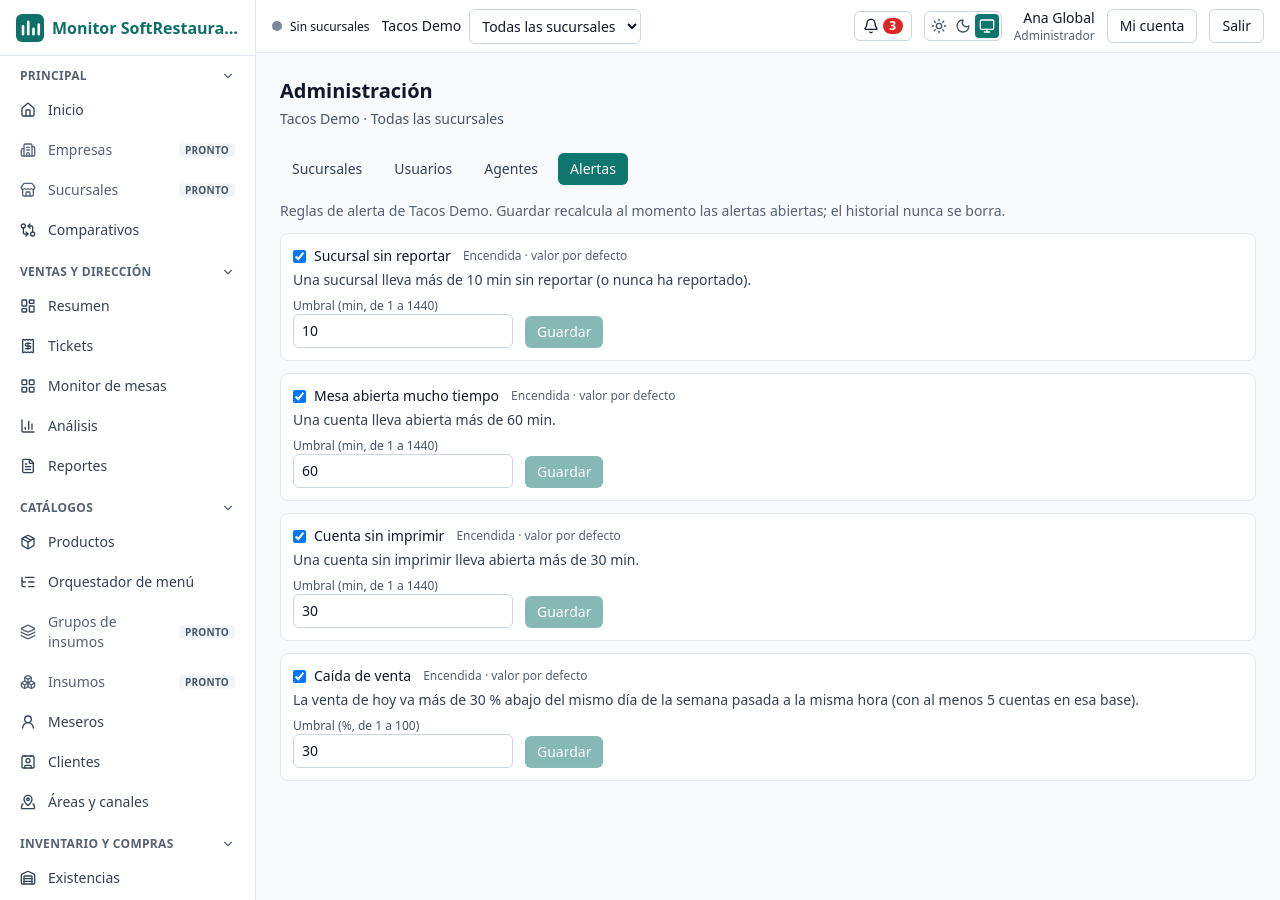
Scenario: Administración › Alertas (reglas) › guardar manda la regla y refresca las abiertas (la campana se actualiza ya)
This screenshot has width=1280, height=900.
Expected: the text with test id "campana-conteo" reads "3", [889, 17, 896, 34]
Replace the text in the field labelled "Umbral (min, de 1 a 1440)" below "Mesa abierta mucho tiempo" with "200": [403, 471] box [293, 454, 513, 488]
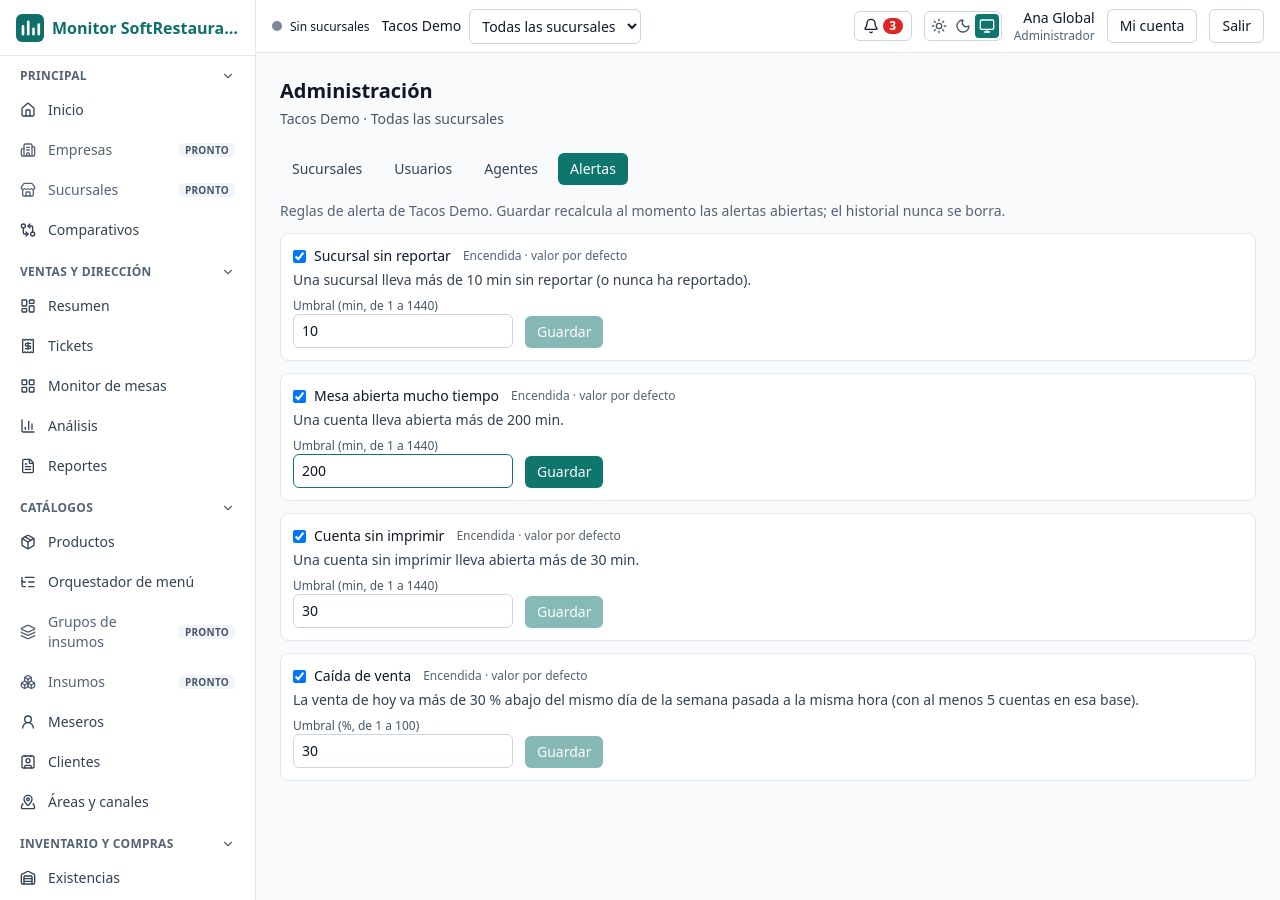
Click the button "Guardar" below "Mesa abierta mucho tiempo": [564, 472] box [525, 456, 604, 488]
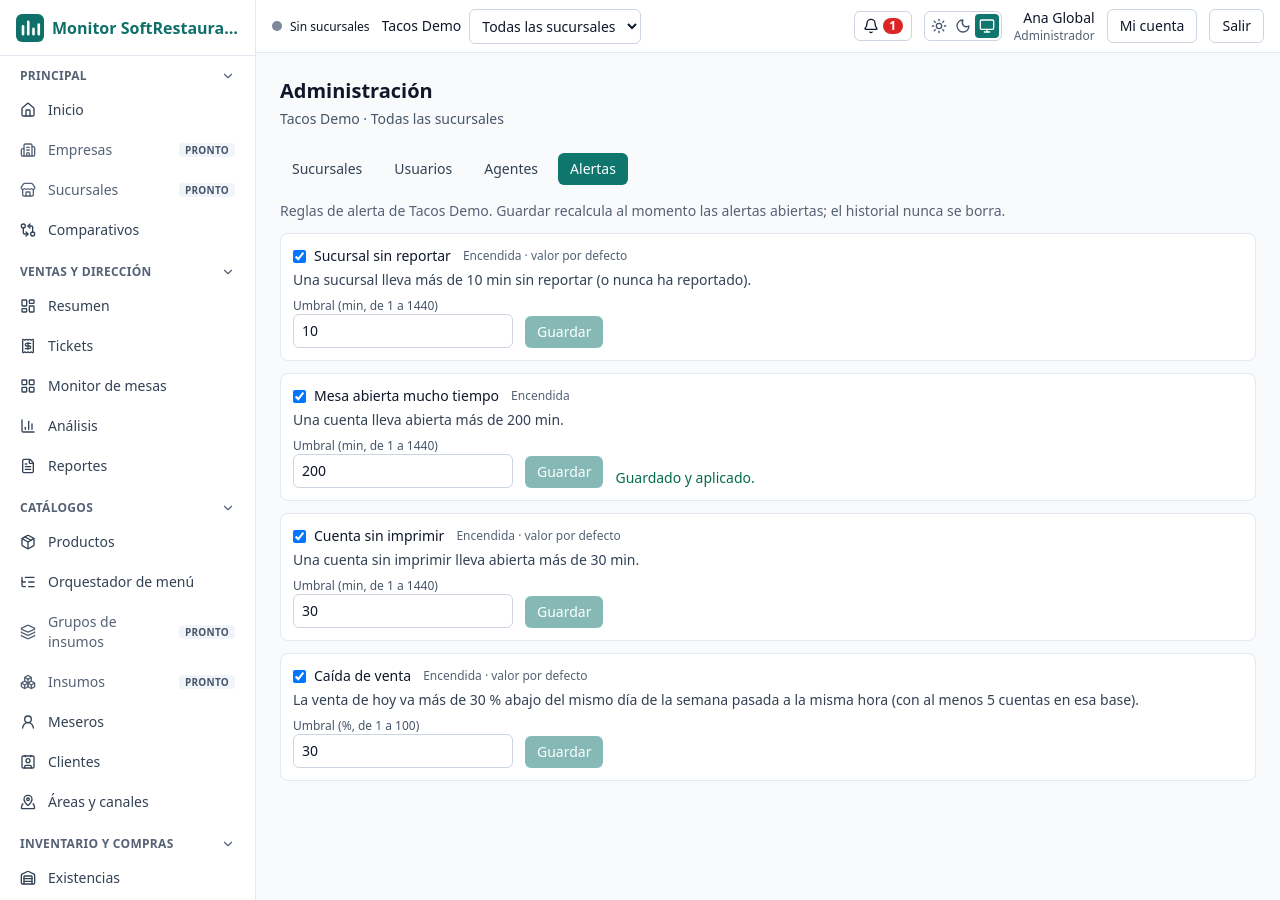
Expected: the message reads "Guardado y aplicado.", [616, 468, 755, 487]
Expected: the text with test id "campana-conteo" reads "1", [889, 17, 896, 34]
